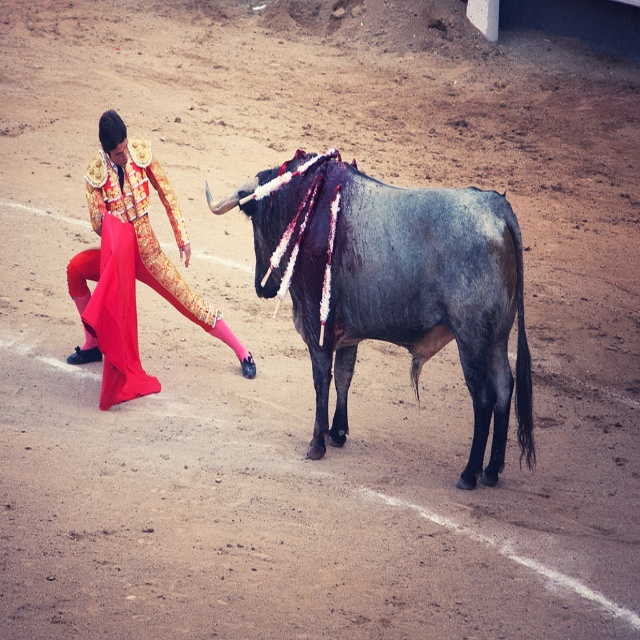Bull: (205, 146, 539, 491)
